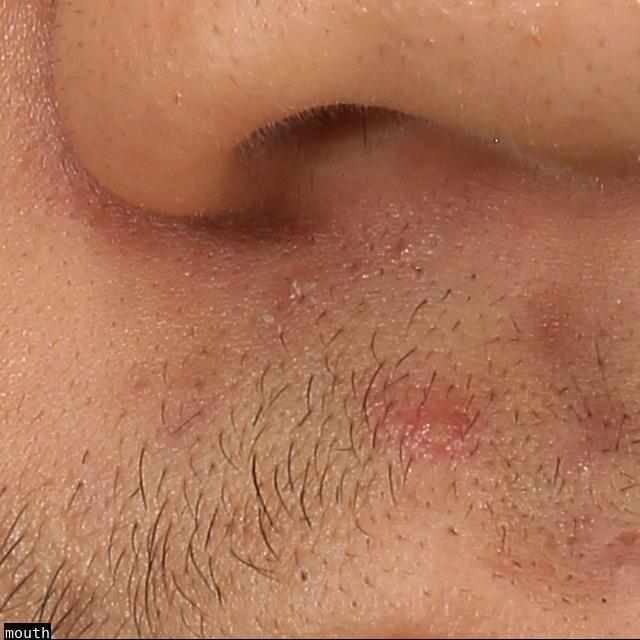comedo: (293, 564, 313, 589)
